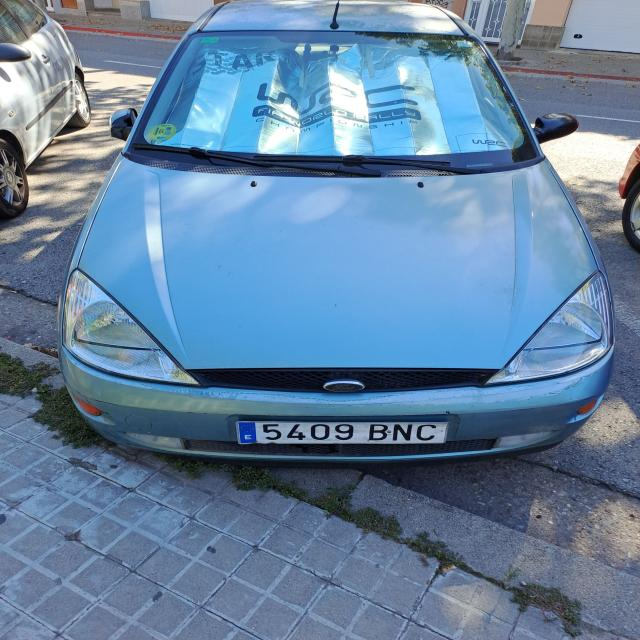license_plate-34Td: (236, 421, 449, 445)
